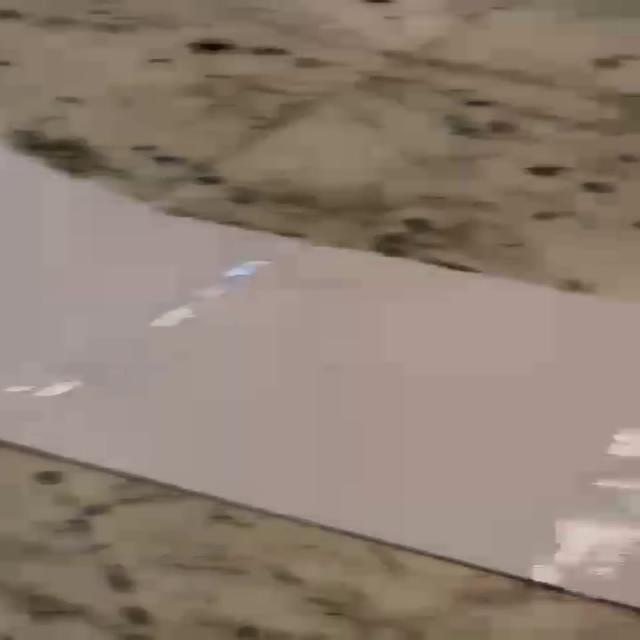road: (3, 148, 640, 605)
